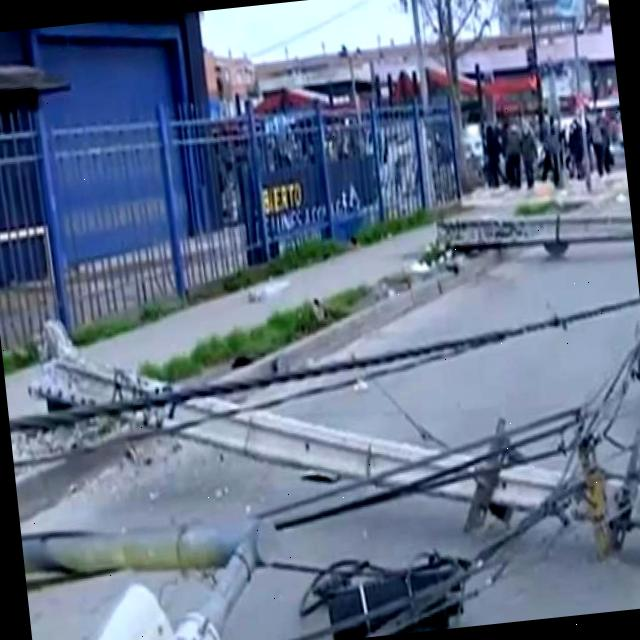Broken Pole: (39, 315, 640, 527)
